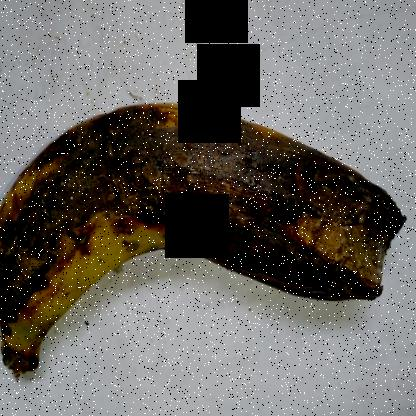rotten: (0, 105, 388, 356)
